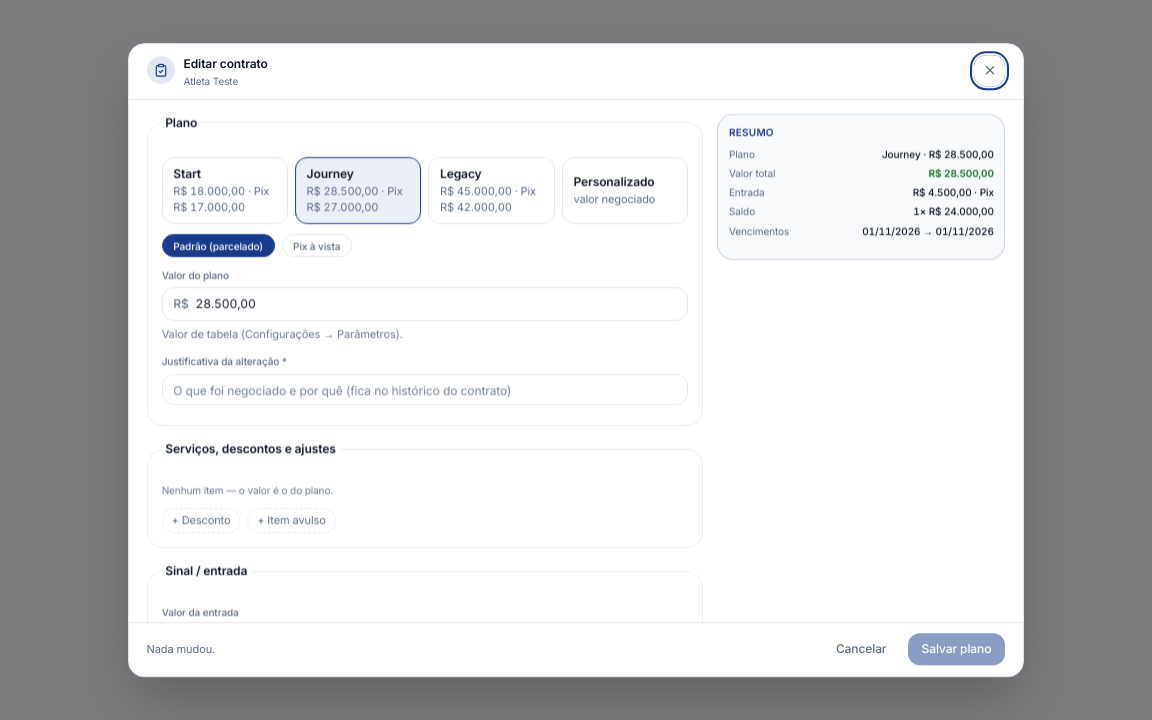
Test case: Editar contrato — edição concorrente (FIN_CONTRATO_MUDOU) › recarrega o formulário com a versão nova (não regrava o plano antigo por cima)
This screenshot has width=1152, height=720.
Type "ajuste combinado" into the text box labelled "Justificativa da alteração *".
click(425, 390); type("ajuste combinado")  # box left=162, top=374, right=688, bottom=406
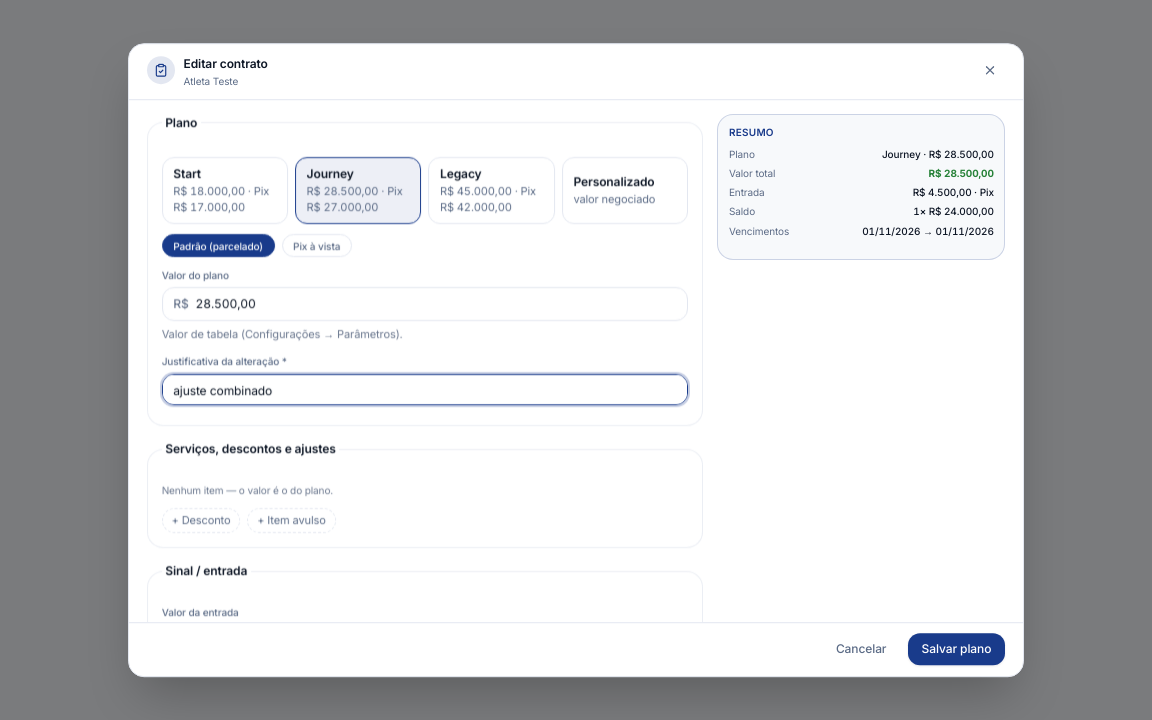
Click the button "Salvar plano".
click(956, 649)  # box left=908, top=634, right=1005, bottom=665
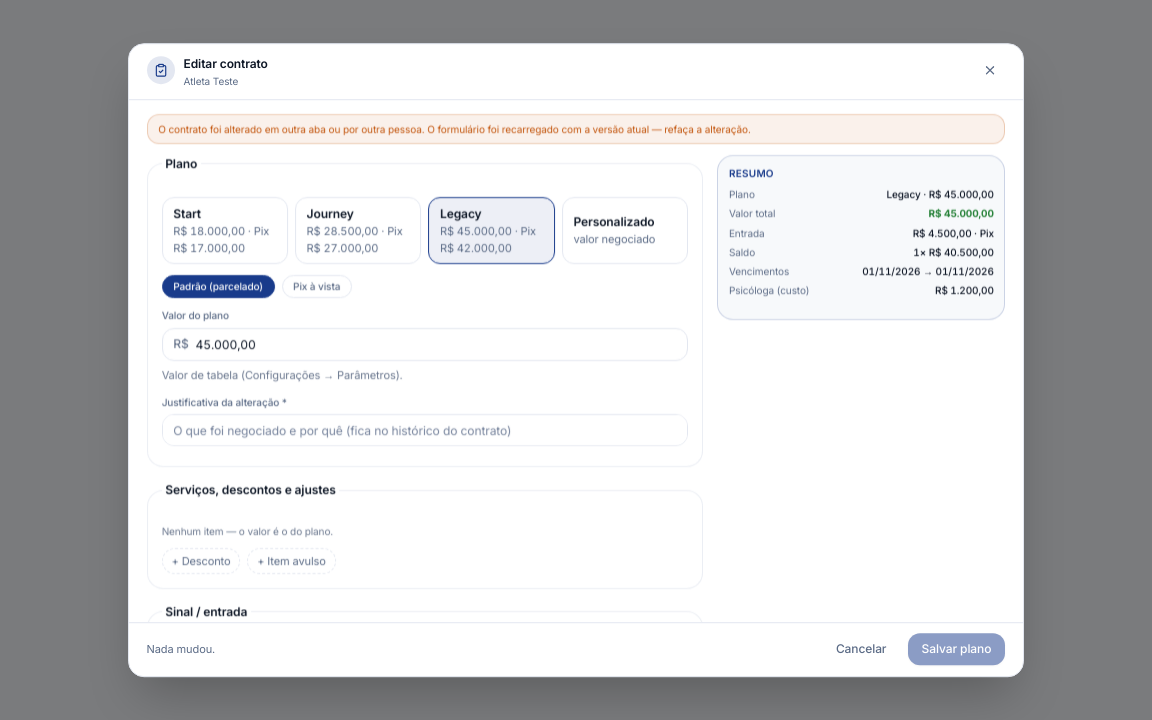
Now the text "O formulário foi recarregado com a versão atual" is shown, box left=158, top=123, right=751, bottom=135
Now the field labelled "Valor do plano" holds "45.000,00", box left=189, top=329, right=687, bottom=360
